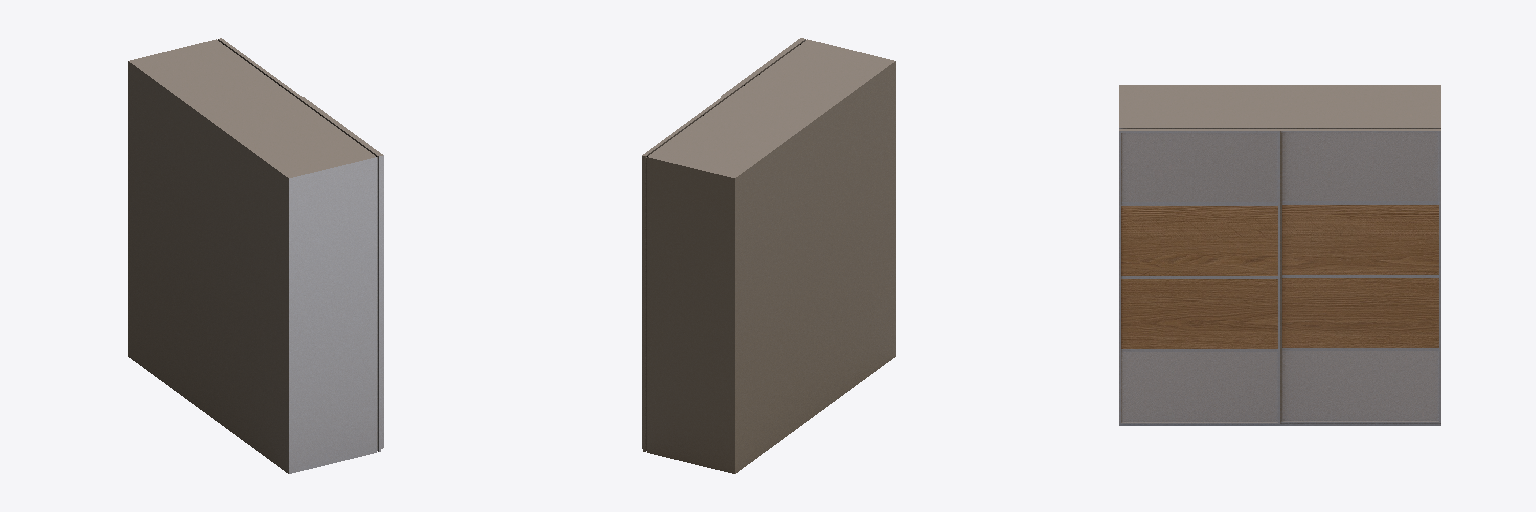
The picture shows the model from 3 angles: view 1: azimuth 30°, elevation 25°; view 2: azimuth 150°, elevation 25°; view 3: azimuth 270°, elevation 25°; orthographic projection.
Visible parts, largest first — view 1: Cube_Cube.001; view 2: Cube_Cube.001; view 3: Cube_Cube.001.
Boxes of the visible parts, box(x1,y1,x2,y2) form: Cube_Cube.001: box(128, 38, 383, 473); Cube_Cube.001: box(642, 38, 895, 473); Cube_Cube.001: box(1119, 85, 1440, 425).
Bounding box in the file's own units: 1.36 × 4.06 × 4.
1 materials, 1 textured.